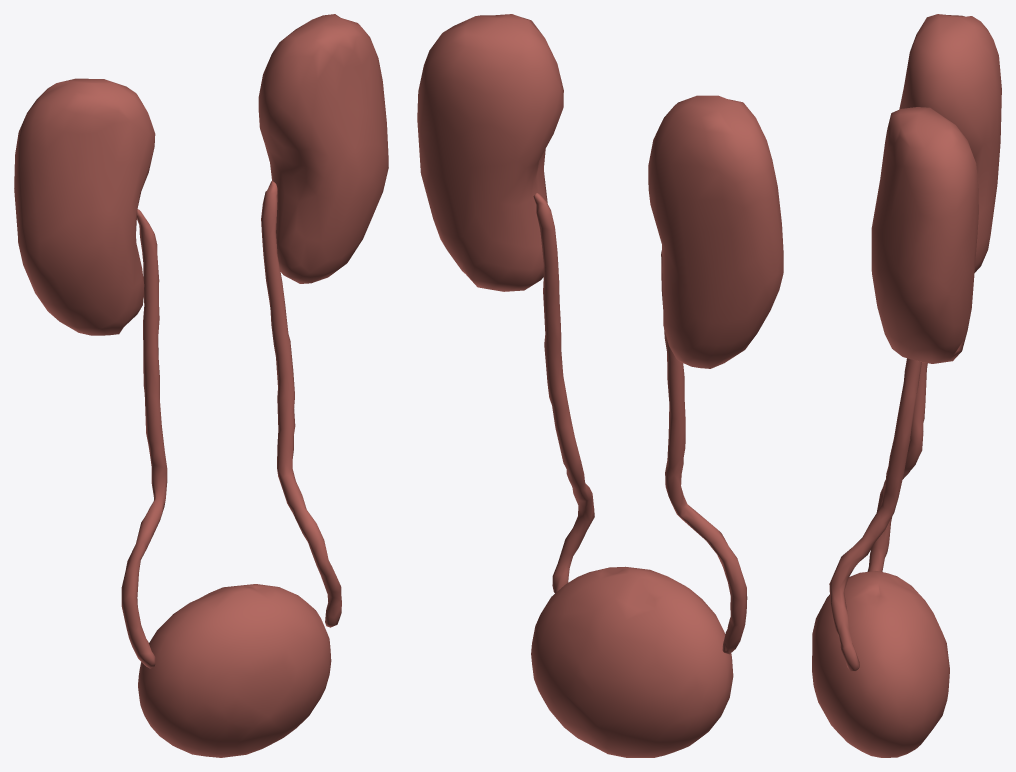
Rendered from pediatric_adolescent_male.urinary.LOD0.glb.
The picture shows the model from 3 angles, left to right: view 1: azimuth 30°, elevation 25°; view 2: azimuth 150°, elevation 25°; view 3: azimuth 270°, elevation 25°; orthographic projection. The views are drawn at different scales.
Parts seen in each view (by area): view 1: PEDIATRIC.ADOLESCENT.MALE.URINARY.KIDNEY_CORTEX.R, PEDIATRIC.ADOLESCENT.MALE.URINARY.KIDNEY_CORTEX.L, PEDIATRIC.ADOLESCENT.MALE.URINARY.URINARY_BLADDER_WALL, PEDIATRIC.ADOLESCENT.MALE.URINARY.URETER.L, PEDIATRIC.ADOLESCENT.MALE.URINARY.URETER.R; view 2: PEDIATRIC.ADOLESCENT.MALE.URINARY.KIDNEY_CORTEX.L, PEDIATRIC.ADOLESCENT.MALE.URINARY.URINARY_BLADDER_WALL, PEDIATRIC.ADOLESCENT.MALE.URINARY.KIDNEY_CORTEX.R, PEDIATRIC.ADOLESCENT.MALE.URINARY.URETER.L, PEDIATRIC.ADOLESCENT.MALE.URINARY.URETER.R; view 3: PEDIATRIC.ADOLESCENT.MALE.URINARY.KIDNEY_CORTEX.L, PEDIATRIC.ADOLESCENT.MALE.URINARY.URINARY_BLADDER_WALL, PEDIATRIC.ADOLESCENT.MALE.URINARY.KIDNEY_CORTEX.R, PEDIATRIC.ADOLESCENT.MALE.URINARY.URETER.L, PEDIATRIC.ADOLESCENT.MALE.URINARY.URETER.R.
Part boxes in pixels (x1,y1,x2,y2): PEDIATRIC.ADOLESCENT.MALE.URINARY.KIDNEY_CORTEX.R: [14, 78, 155, 335]; PEDIATRIC.ADOLESCENT.MALE.URINARY.KIDNEY_CORTEX.L: [258, 14, 388, 283]; PEDIATRIC.ADOLESCENT.MALE.URINARY.URINARY_BLADDER_WALL: [138, 584, 331, 757]; PEDIATRIC.ADOLESCENT.MALE.URINARY.URETER.L: [261, 181, 341, 627]; PEDIATRIC.ADOLESCENT.MALE.URINARY.URETER.R: [121, 209, 167, 668]; PEDIATRIC.ADOLESCENT.MALE.URINARY.KIDNEY_CORTEX.L: [417, 14, 563, 291]; PEDIATRIC.ADOLESCENT.MALE.URINARY.URINARY_BLADDER_WALL: [531, 566, 733, 757]; PEDIATRIC.ADOLESCENT.MALE.URINARY.KIDNEY_CORTEX.R: [648, 95, 783, 368]; PEDIATRIC.ADOLESCENT.MALE.URINARY.URETER.L: [533, 193, 594, 593]; PEDIATRIC.ADOLESCENT.MALE.URINARY.URETER.R: [661, 250, 747, 654]; PEDIATRIC.ADOLESCENT.MALE.URINARY.KIDNEY_CORTEX.L: [871, 107, 978, 363]; PEDIATRIC.ADOLESCENT.MALE.URINARY.URINARY_BLADDER_WALL: [812, 571, 949, 757]; PEDIATRIC.ADOLESCENT.MALE.URINARY.KIDNEY_CORTEX.R: [899, 14, 1001, 272]; PEDIATRIC.ADOLESCENT.MALE.URINARY.URETER.L: [829, 358, 921, 671]; PEDIATRIC.ADOLESCENT.MALE.URINARY.URETER.R: [867, 362, 927, 571].
Size of the model in its own units: 0.1687 by 0.315 by 0.0791.
